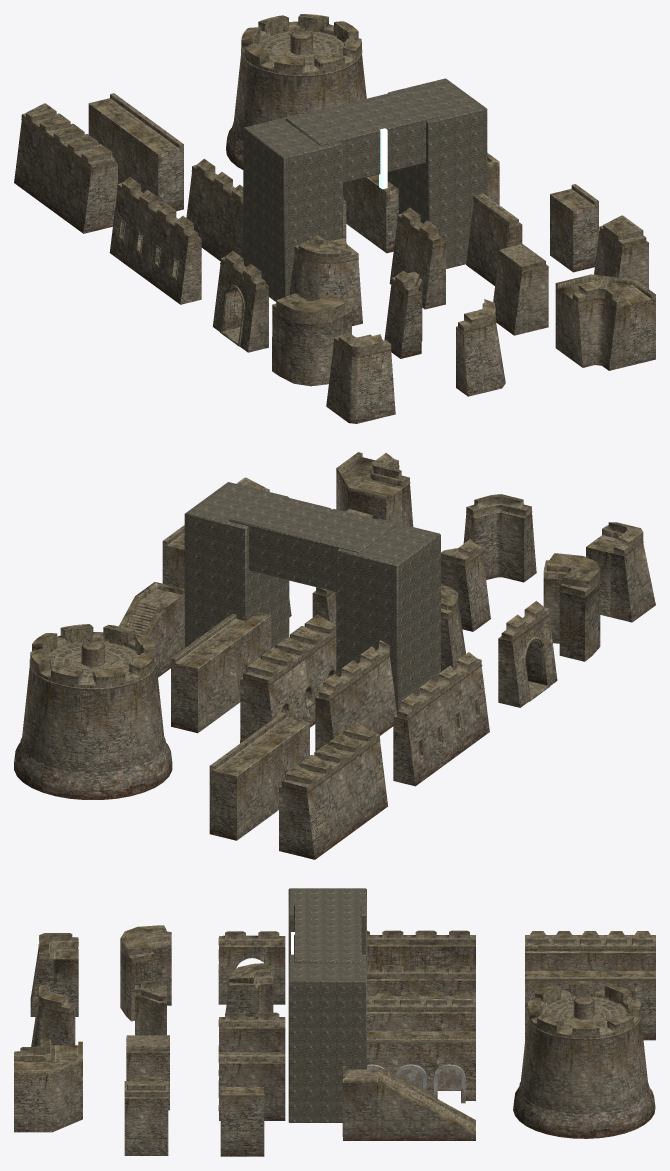
File: env_keep_gate.glb
The picture shows the model from 3 angles, top to bottom: view 1: azimuth 30°, elevation 25°; view 2: azimuth 150°, elevation 25°; view 3: azimuth 270°, elevation 25°; orthographic projection. The views are drawn at different scales.
Parts seen in each view (by area): view 1: ENV_Frostheim_KeepGate, ENV_KeepGate_Arch; view 2: ENV_Frostheim_KeepGate, ENV_KeepGate_Arch; view 3: ENV_Frostheim_KeepGate, ENV_KeepGate_Arch.
Boxes of the visible parts, box(x1,y1,x2,y2) form: ENV_Frostheim_KeepGate: box(14, 14, 655, 423); ENV_KeepGate_Arch: box(243, 78, 487, 301); ENV_Frostheim_KeepGate: box(14, 452, 655, 859); ENV_KeepGate_Arch: box(184, 482, 440, 711); ENV_Frostheim_KeepGate: box(14, 925, 655, 1156); ENV_KeepGate_Arch: box(288, 888, 366, 1122).
Size of what is drawn, in the model's own units: 21.53 by 8.9 by 36.02.
5 materials, 4 textured.
